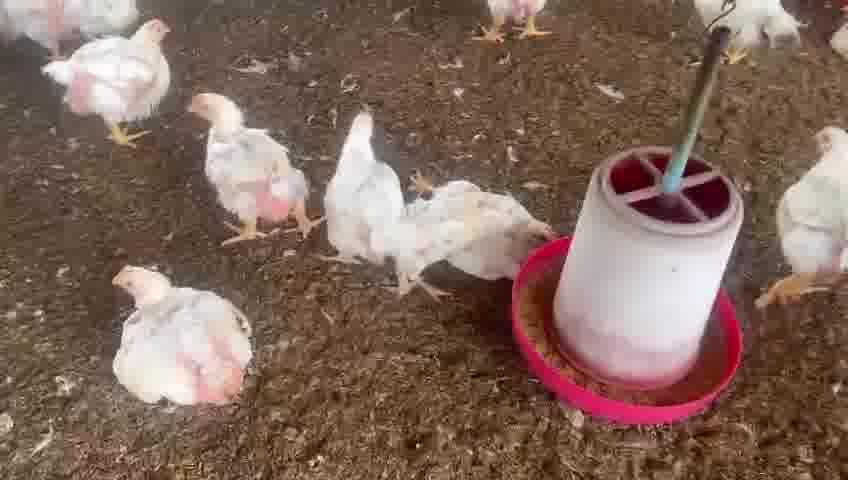AbNormal: (107, 267, 254, 406), (398, 172, 554, 297)
Normal: (185, 91, 321, 243), (47, 17, 174, 148), (757, 126, 848, 304), (320, 107, 398, 267), (690, 3, 800, 64), (476, 0, 552, 47)
